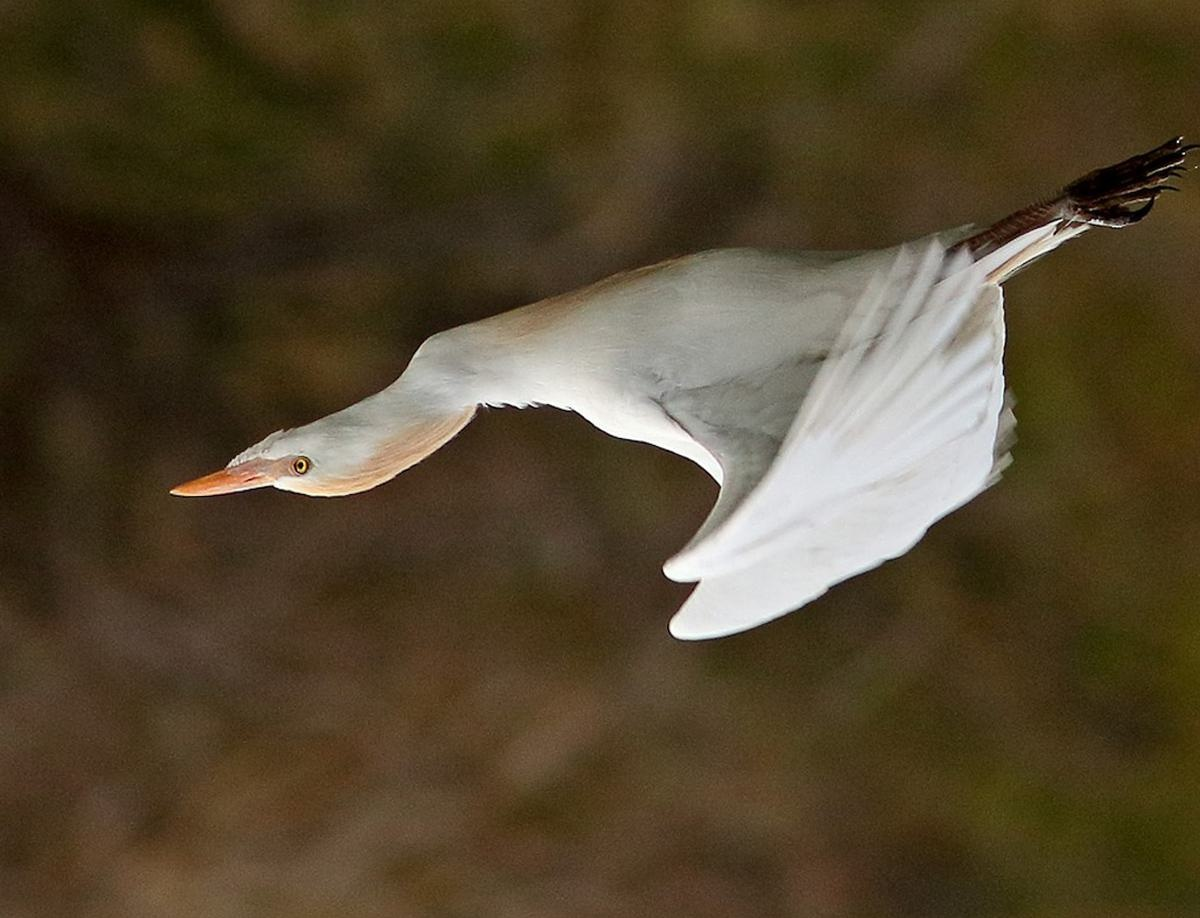egret: (129, 94, 1186, 651)
